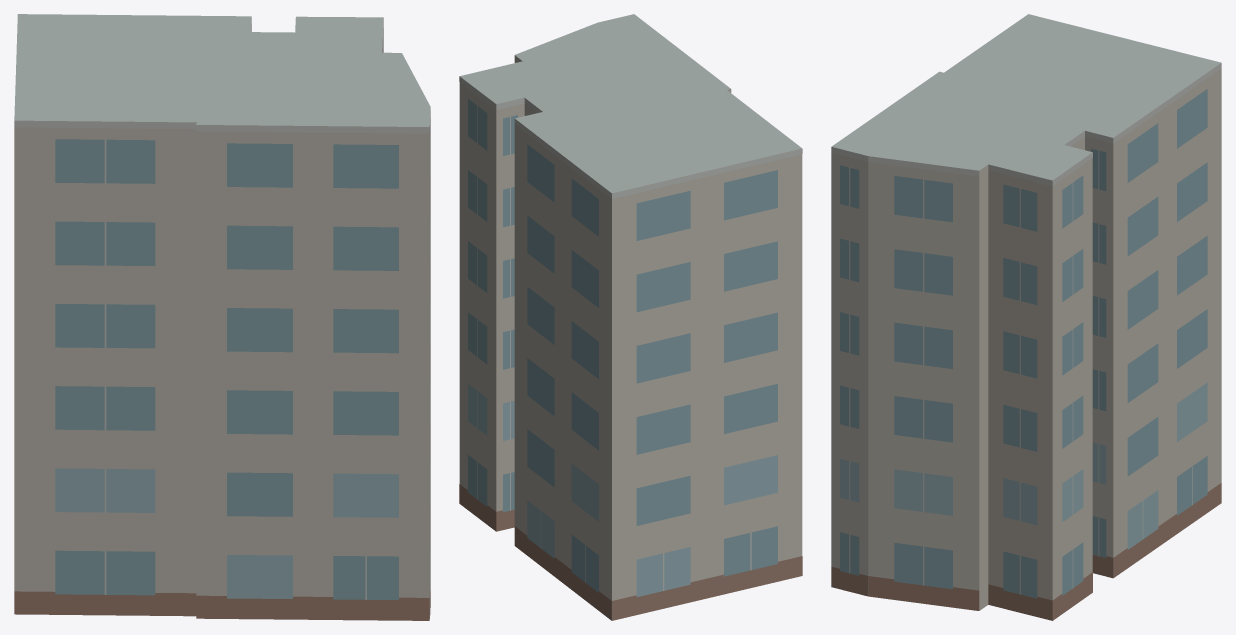
The model's file is survey-upis-32767361.glb.
3 views of the same model, side by side, from view 1: azimuth 30°, elevation 25°; view 2: azimuth 150°, elevation 25°; view 3: azimuth 270°, elevation 25° (orthographic). The views are drawn at different scales.
Visible parts, largest first — view 1: survey-upis-32767361.tmp; view 2: survey-upis-32767361.tmp; view 3: survey-upis-32767361.tmp.
Boxes of the visible parts, <box> form: survey-upis-32767361.tmp: <box>14,14,430,620</box>; survey-upis-32767361.tmp: <box>459,14,802,620</box>; survey-upis-32767361.tmp: <box>831,14,1221,620</box>.
Bounding box in the file's own units: 14.85 × 18.3 × 14.71.
